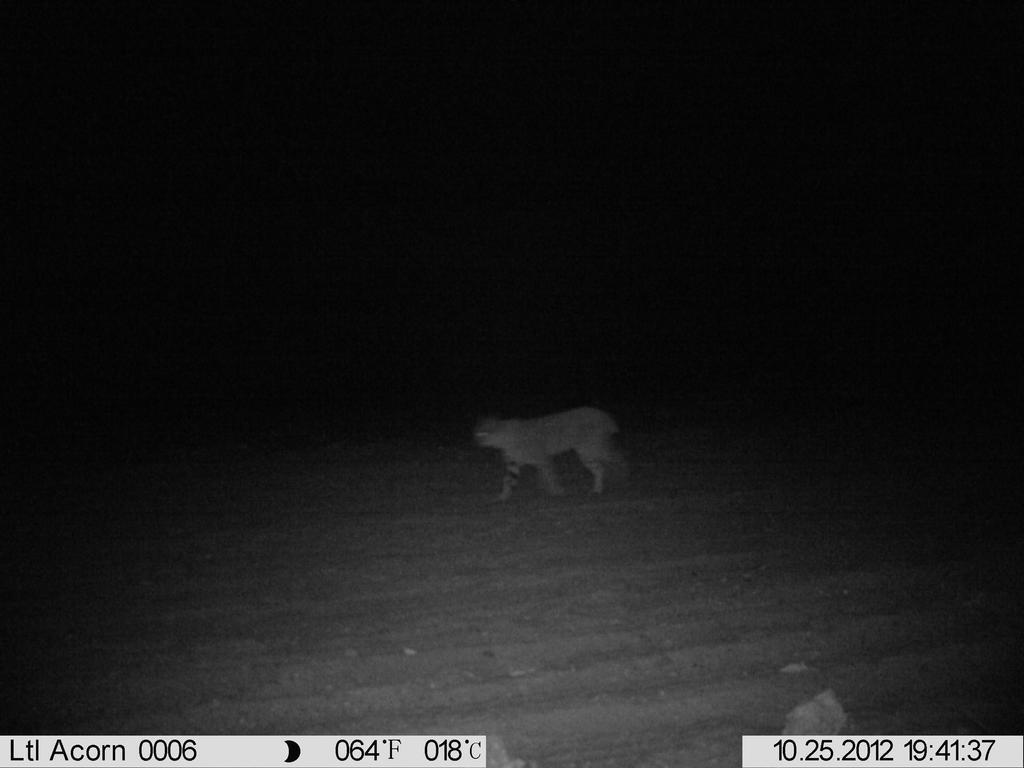bobcat: (460, 385, 649, 506)
